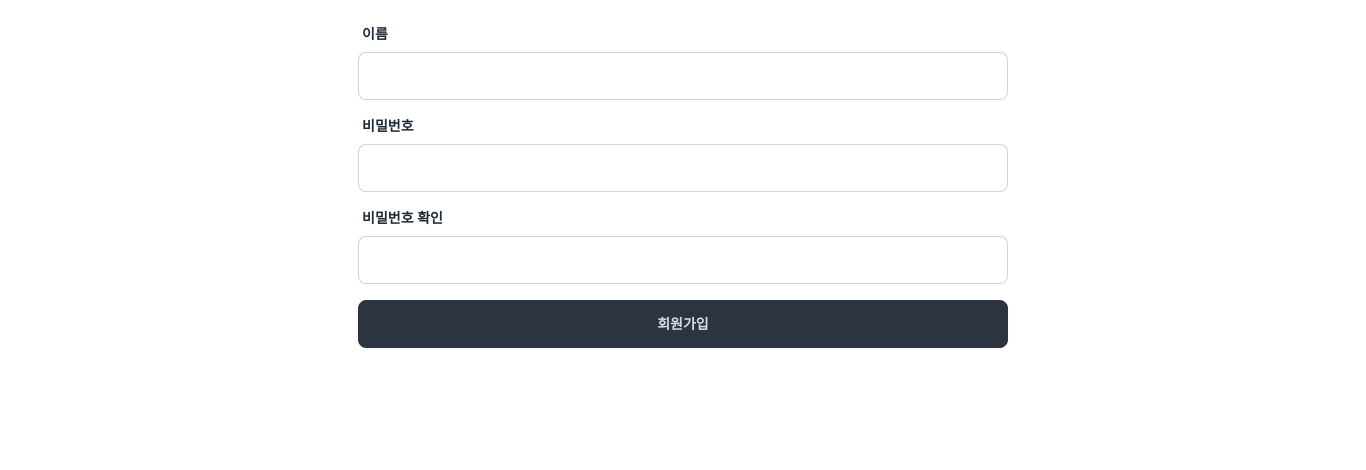
Test: hard › 바깥을 클릭하면 키패드가 닫힌다
The image size is (1366, 470).
Click the password field labelled "비밀번호".
click(683, 168)  # box [358,144,1008,192]
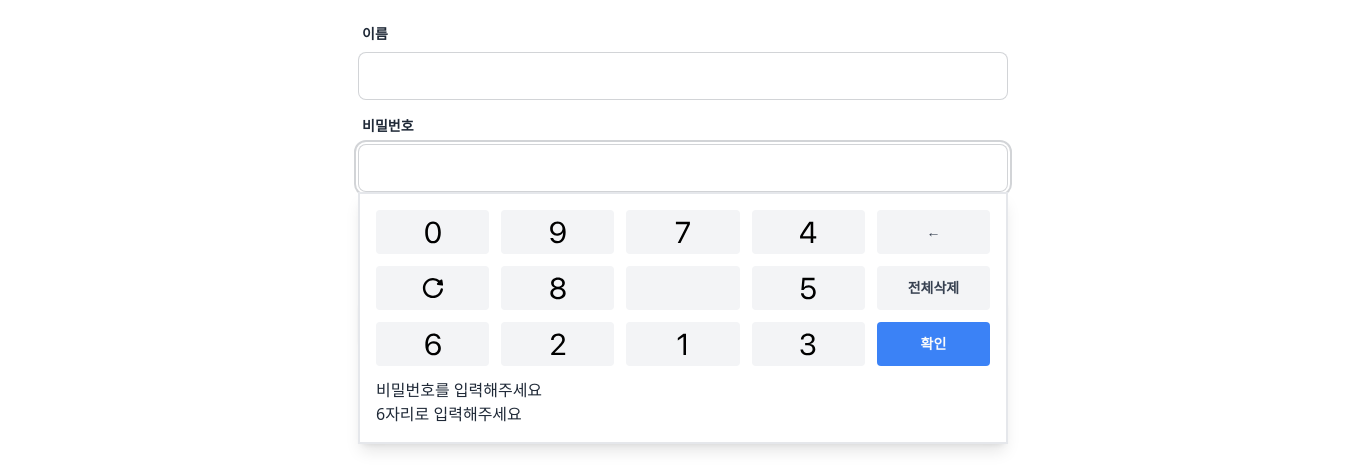
Click the element showing "이름 비밀번호 ← 전체삭제 확인 비밀번호를 입력해주세요 6자리로 입력해주세요 비밀번호 확인 회원가입".
click(683, 182)  # box [0,16,1365,348]
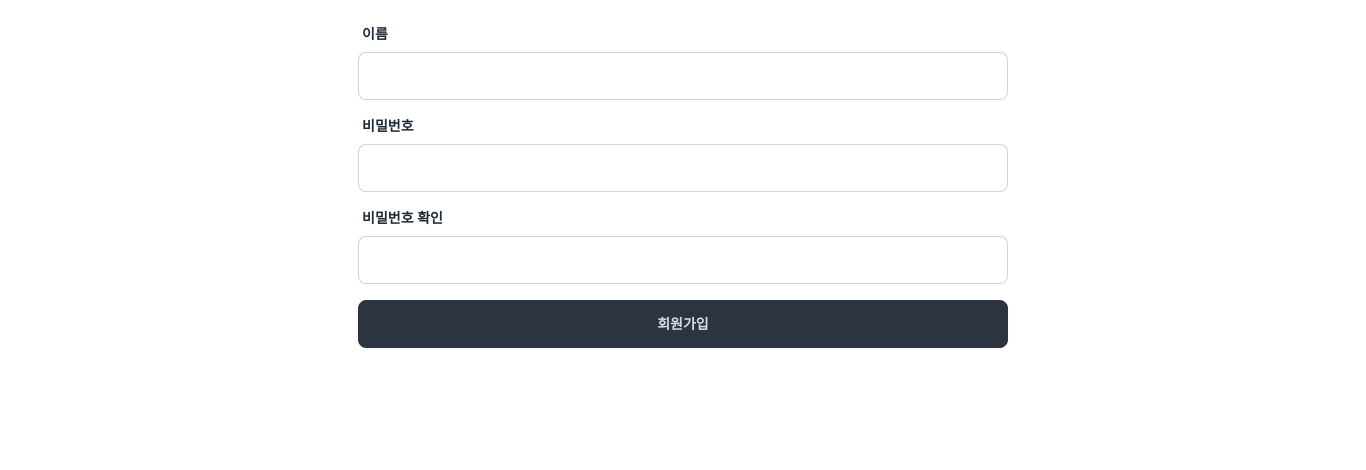
Now the text "6자리로 입력해주세요" is gone
